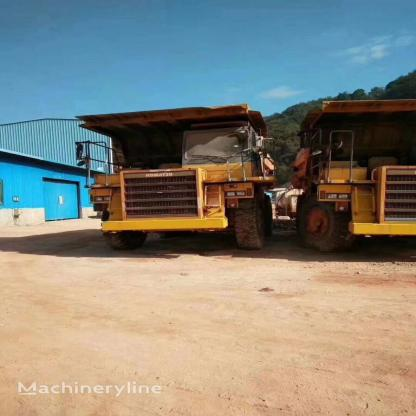dump_truck: (68, 100, 285, 252)
